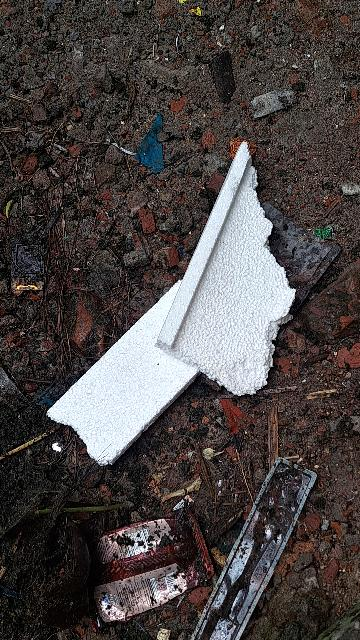cocksheet: (43, 136, 307, 472)
